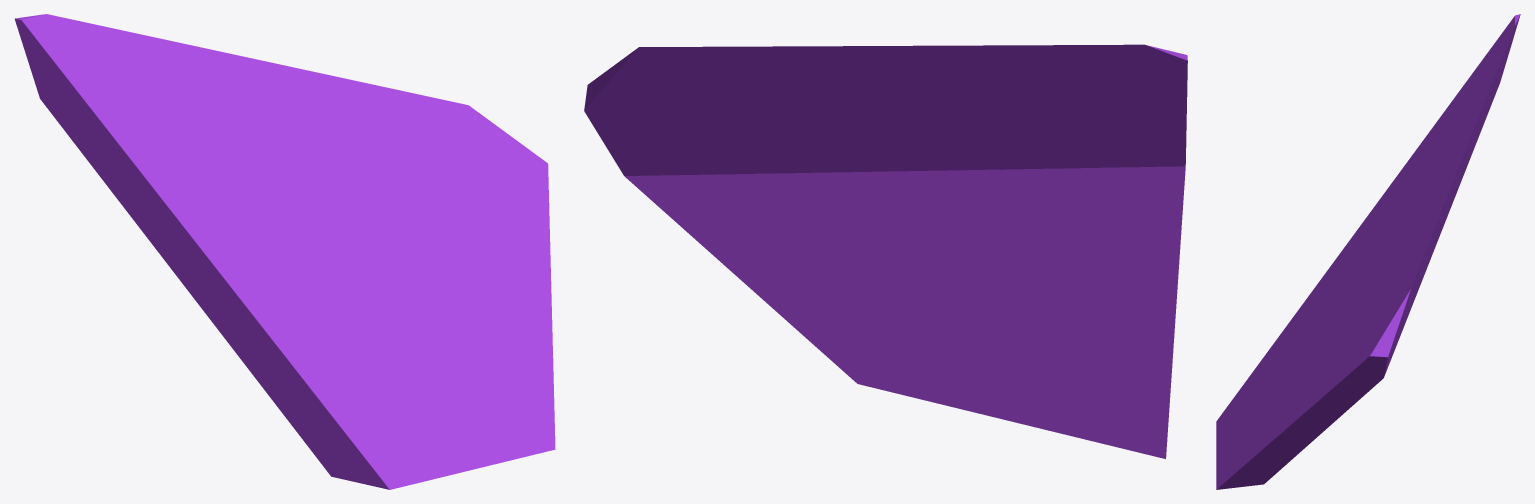
Rendered from Window_132_2_chunks.fbx.
3 views of the same model, side by side, from view 1: azimuth 30°, elevation 25°; view 2: azimuth 150°, elevation 25°; view 3: azimuth 270°, elevation 25° (orthographic). The views are drawn at different scales.
Visible parts, largest first — view 1: Window_132_2_1, Window_132_2_6, Window_132_2_5, Window_132_2_0, Window_132_2_7, Window_132_2_3, Window_132_2_9, Window_132_2_8, Window_132_2_2, Window_132_2_4; view 2: Window_132_2_1, Window_132_2_5, Window_132_2_7, Window_132_2_3, Window_132_2_8, Window_132_2_4, Window_132_2_6, Window_132_2_0, Window_132_2_9; view 3: Window_132_2_1, Window_132_2_6, Window_132_2_0, Window_132_2_5, Window_132_2_9, Window_132_2_8, Window_132_2_7, Window_132_2_3, Window_132_2_4, Window_132_2_2.
Boxes of the visible parts, <box> form: Window_132_2_1: <box>327,74,551,290</box>; Window_132_2_6: <box>355,309,555,489</box>; Window_132_2_5: <box>14,14,206,195</box>; Window_132_2_0: <box>159,38,354,234</box>; Window_132_2_7: <box>234,272,371,482</box>; Window_132_2_3: <box>114,184,297,349</box>; Window_132_2_9: <box>276,217,464,333</box>; Window_132_2_8: <box>430,258,552,326</box>; Window_132_2_2: <box>128,126,225,198</box>; Window_132_2_4: <box>204,102,308,246</box>; Window_132_2_1: <box>584,46,917,270</box>; Window_132_2_5: <box>959,44,1187,240</box>; Window_132_2_7: <box>970,284,1172,458</box>; Window_132_2_3: <box>983,204,1180,360</box>; Window_132_2_8: <box>730,249,992,355</box>; Window_132_2_4: <box>875,81,1039,270</box>; Window_132_2_6: <box>818,349,1111,445</box>; Window_132_2_0: <box>809,45,1009,137</box>; Window_132_2_9: <box>862,240,1009,304</box>; Window_132_2_1: <box>1301,200,1445,426</box>; Window_132_2_6: <box>1216,341,1307,489</box>; Window_132_2_0: <box>1363,96,1487,278</box>; Window_132_2_5: <box>1428,14,1520,181</box>; Window_132_2_9: <box>1302,263,1366,360</box>; Window_132_2_8: <box>1282,356,1329,466</box>; Window_132_2_7: <box>1245,263,1346,382</box>; Window_132_2_3: <box>1333,170,1401,263</box>; Window_132_2_4: <box>1358,147,1469,263</box>; Window_132_2_2: <box>1400,134,1434,196</box>.
Bounding box in the file's own units: 917 × 763 × 644.
